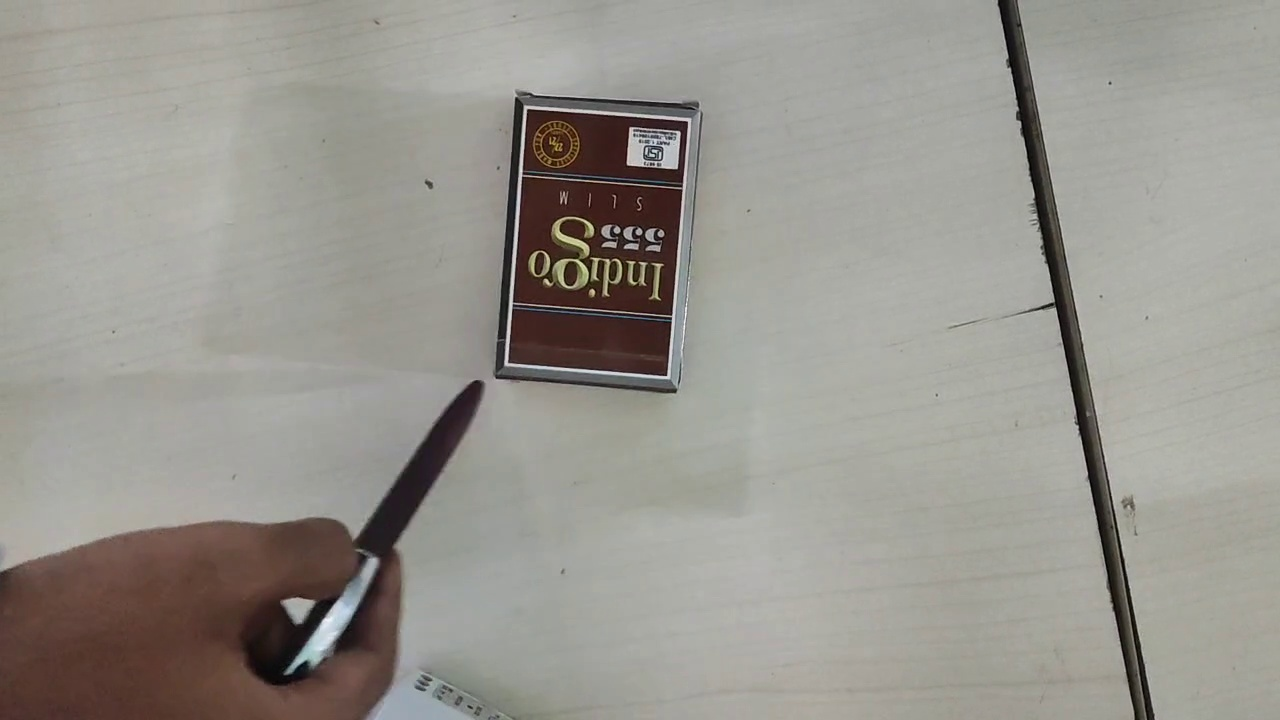BEX: (504, 103, 691, 375)
